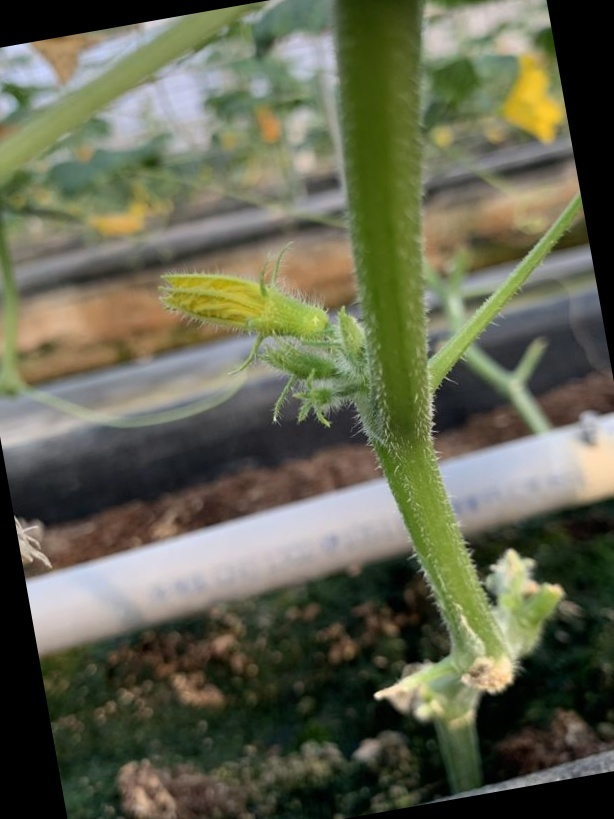bud: (158, 237, 332, 370)
